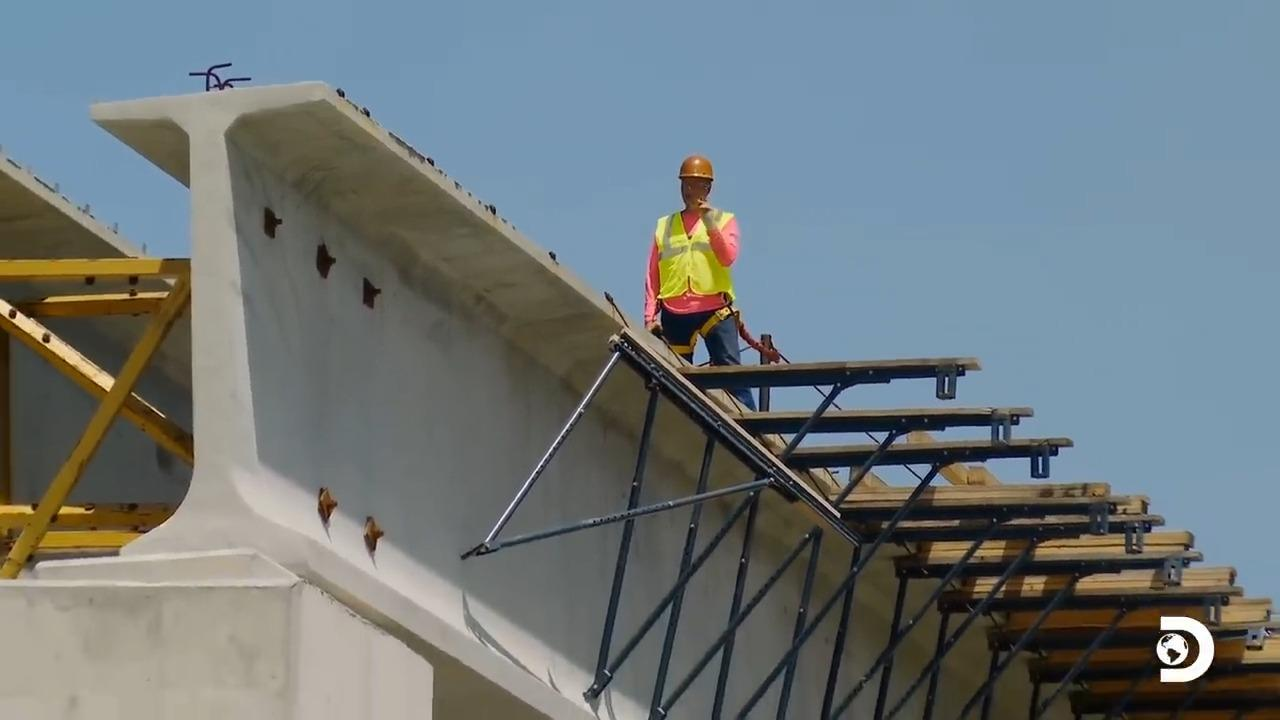Helmet: (678, 154, 714, 180)
Person: (642, 154, 759, 414)
Safety Vest: (661, 222, 730, 300)
bare-arms: (694, 197, 717, 223), (643, 314, 660, 333)
